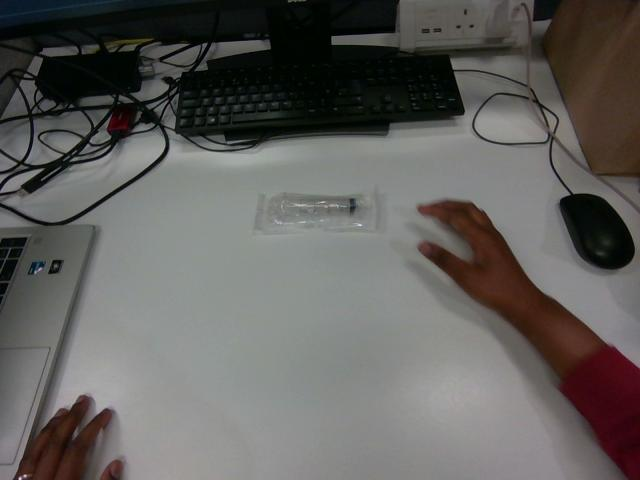syringe: (254, 190, 377, 233)
